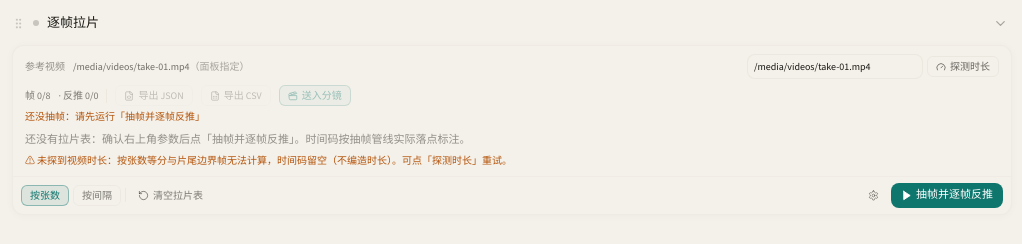
Test case: FrameStudyWorkspace：时长探测 › 服务端 ok:false：同样不编造时长，面板直接展示失败备注
Click the button "探测时长". click: click(963, 66)
box: [927,56,999,77]
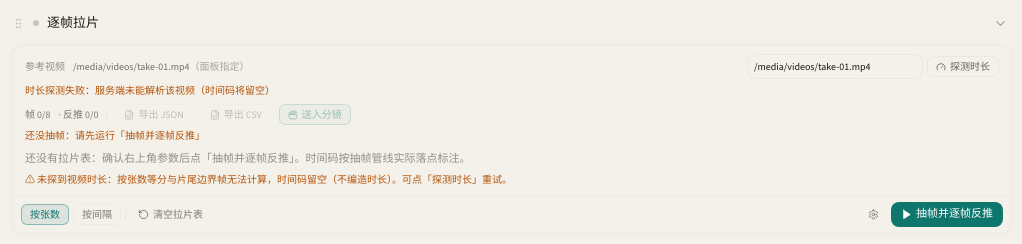
Check: the text "时长探测失败：服务端未能解析该视频（时间码将留空）" is shown, box [25,84,275,97]
